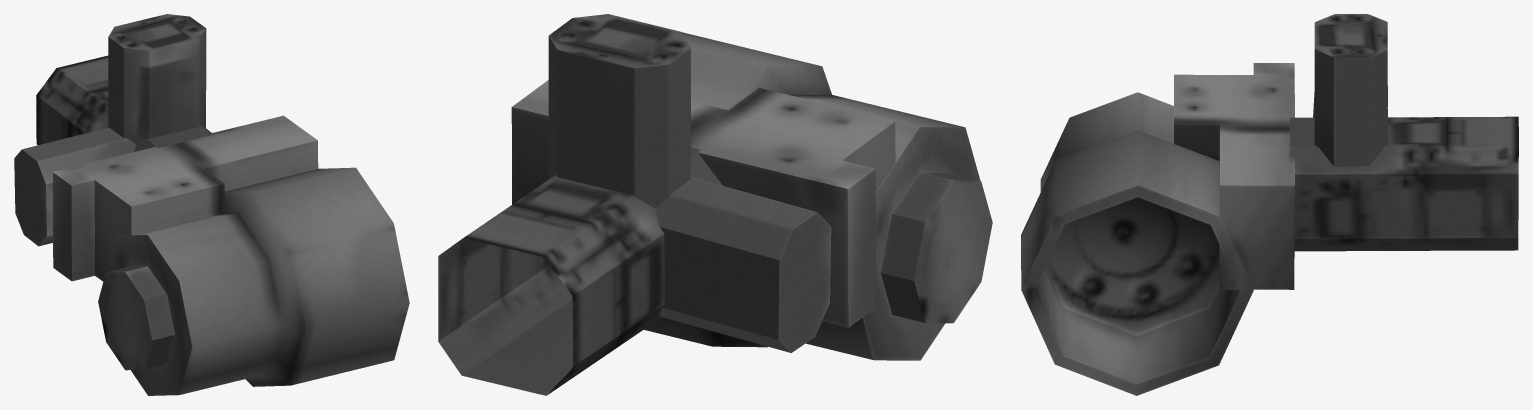
Rendered from r_clav.dae.
The picture shows the model from 3 angles, left to right: view 1: azimuth 30°, elevation 25°; view 2: azimuth 150°, elevation 25°; view 3: azimuth 270°, elevation 25°; orthographic projection. The views are drawn at different scales.
Parts seen in each view (by area): view 1: drc_r_clav; view 2: drc_r_clav; view 3: drc_r_clav.
Boxes of the visible parts, x1,y1,x2,y2 form: drc_r_clav: (14, 14, 409, 395); drc_r_clav: (438, 14, 992, 395); drc_r_clav: (1021, 14, 1518, 395).
Size of the model in its own units: 0.116 by 0.1985 by 0.135.
1 material, 1 textured.
